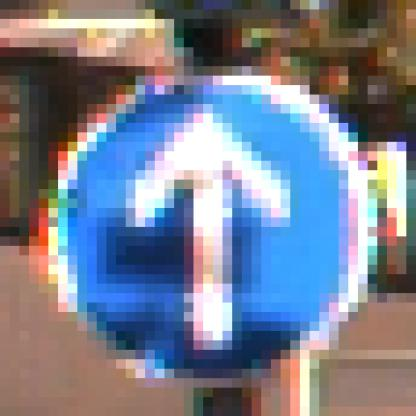AheadOnly: (49, 58, 369, 360)
